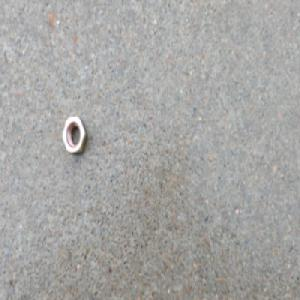Nut: (63, 118, 88, 158)
